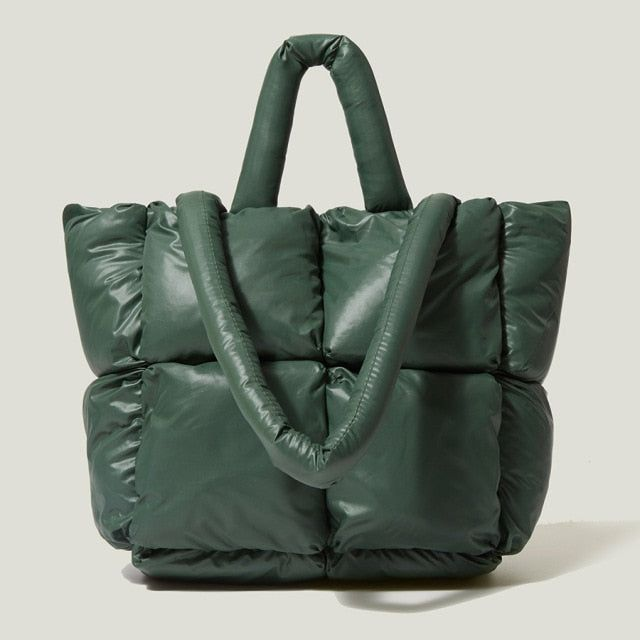nylon: (64, 34, 570, 580)
